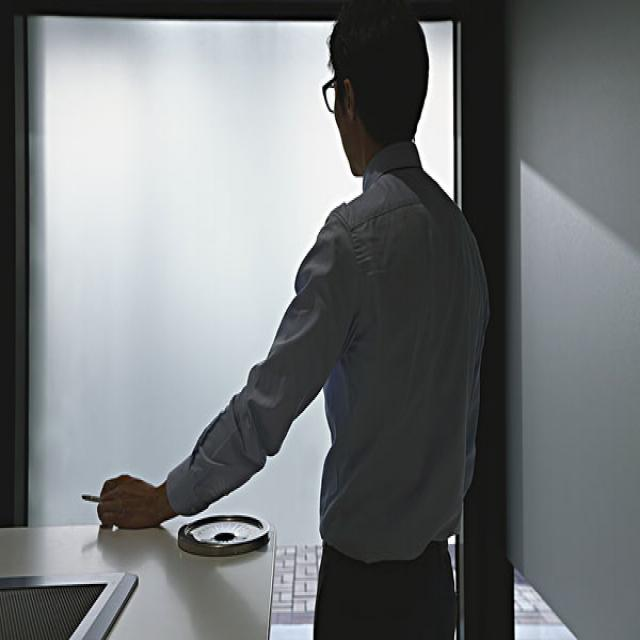smoking: (80, 490, 107, 504)
